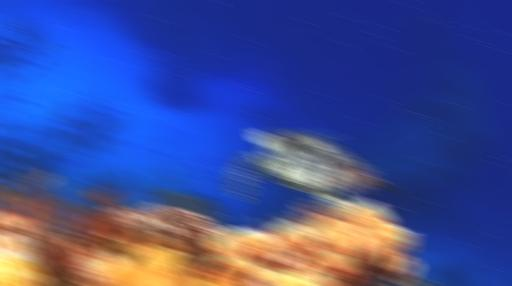Fish: (228, 129, 393, 210)
